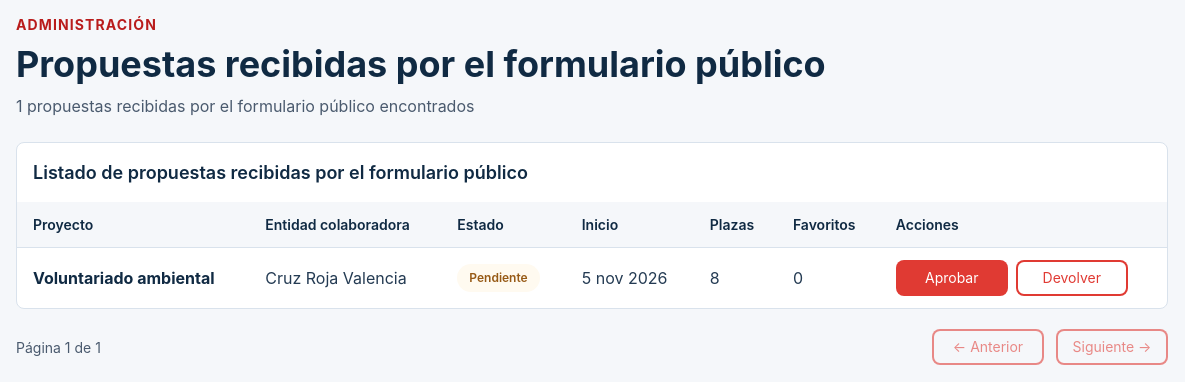
Test: ActivitiesListPage › the review queue has no status filter, approves and reloads
Expected: the text "Cruz Roja Valencia" is shown, [249,248,441,308]
Click the button "Aprobar".
click(952, 278)  # box [896,260,1008,296]
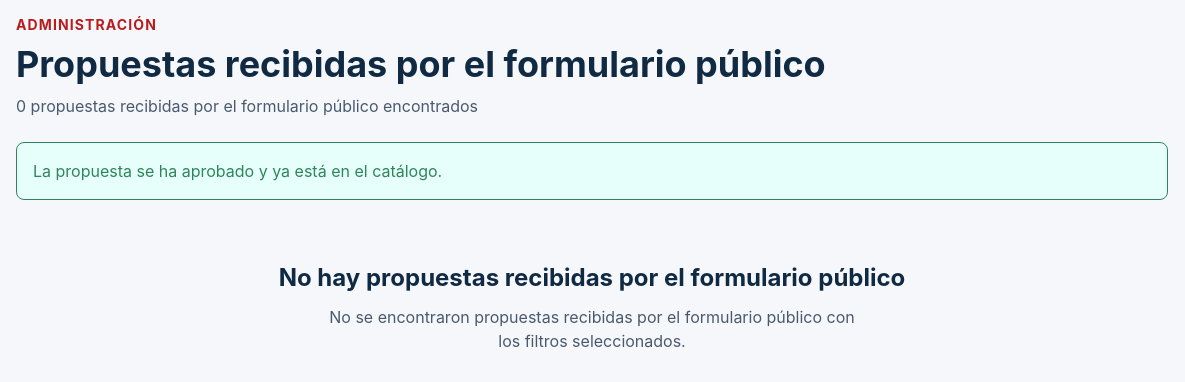
Expected: the message shows "se ha aprobado", [33,161,442,181]
Expected: the text "Voluntariado ambiental" is gone
